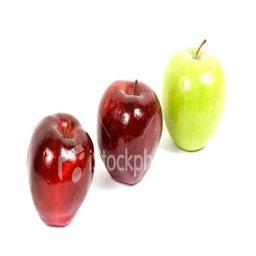apple: (27, 115, 95, 229), (159, 40, 225, 152), (94, 80, 162, 188)
